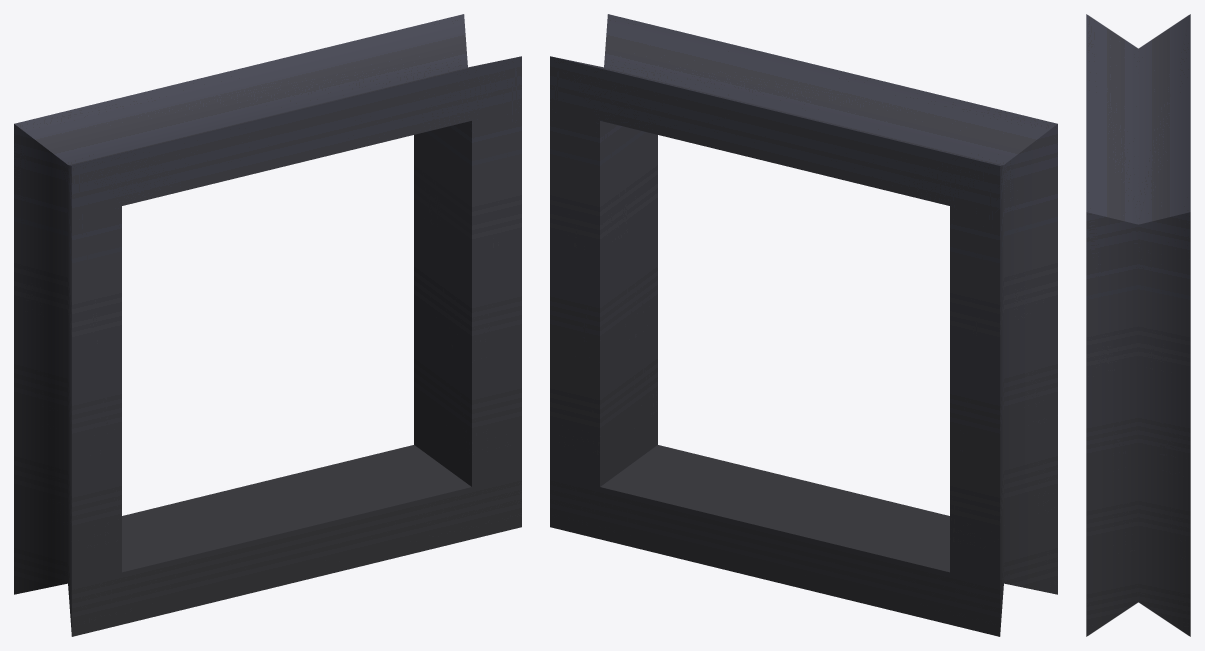
Rendered from train-connector.glb.
3 views of the same model, side by side, from view 1: azimuth 30°, elevation 25°; view 2: azimuth 150°, elevation 25°; view 3: azimuth 270°, elevation 25° (orthographic). The views are drawn at different scales.
Parts seen in each view (by area): view 1: train-connector; view 2: train-connector; view 3: train-connector.
Boxes of the visible parts, x1,y1,x2,y2 form: train-connector: (14,14,521,636); train-connector: (550,14,1057,636); train-connector: (1086,14,1190,636).
Size of the model in its own units: 0.9 by 0.9 by 0.2.
Materials: 1 (1 with a texture image).
